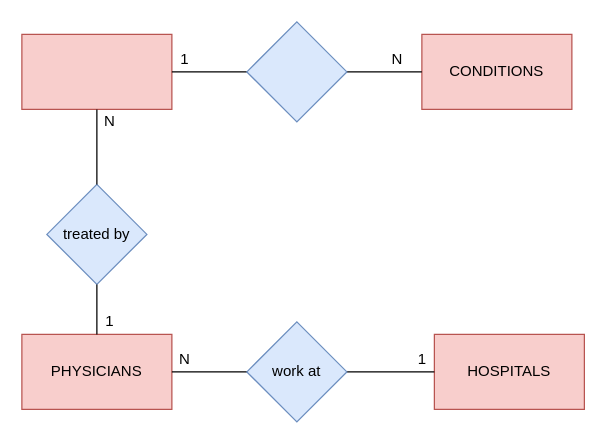
Image size: 606x444. Some labels were removed from this diagram. Each missing label, with the box of its shape:
diagnose with: (246, 21, 347, 122)
PATIENTS: (21, 33, 172, 109)
